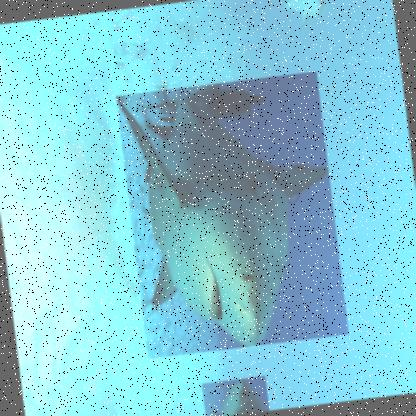bulldog-shark: (113, 70, 348, 359), (198, 374, 269, 415)
